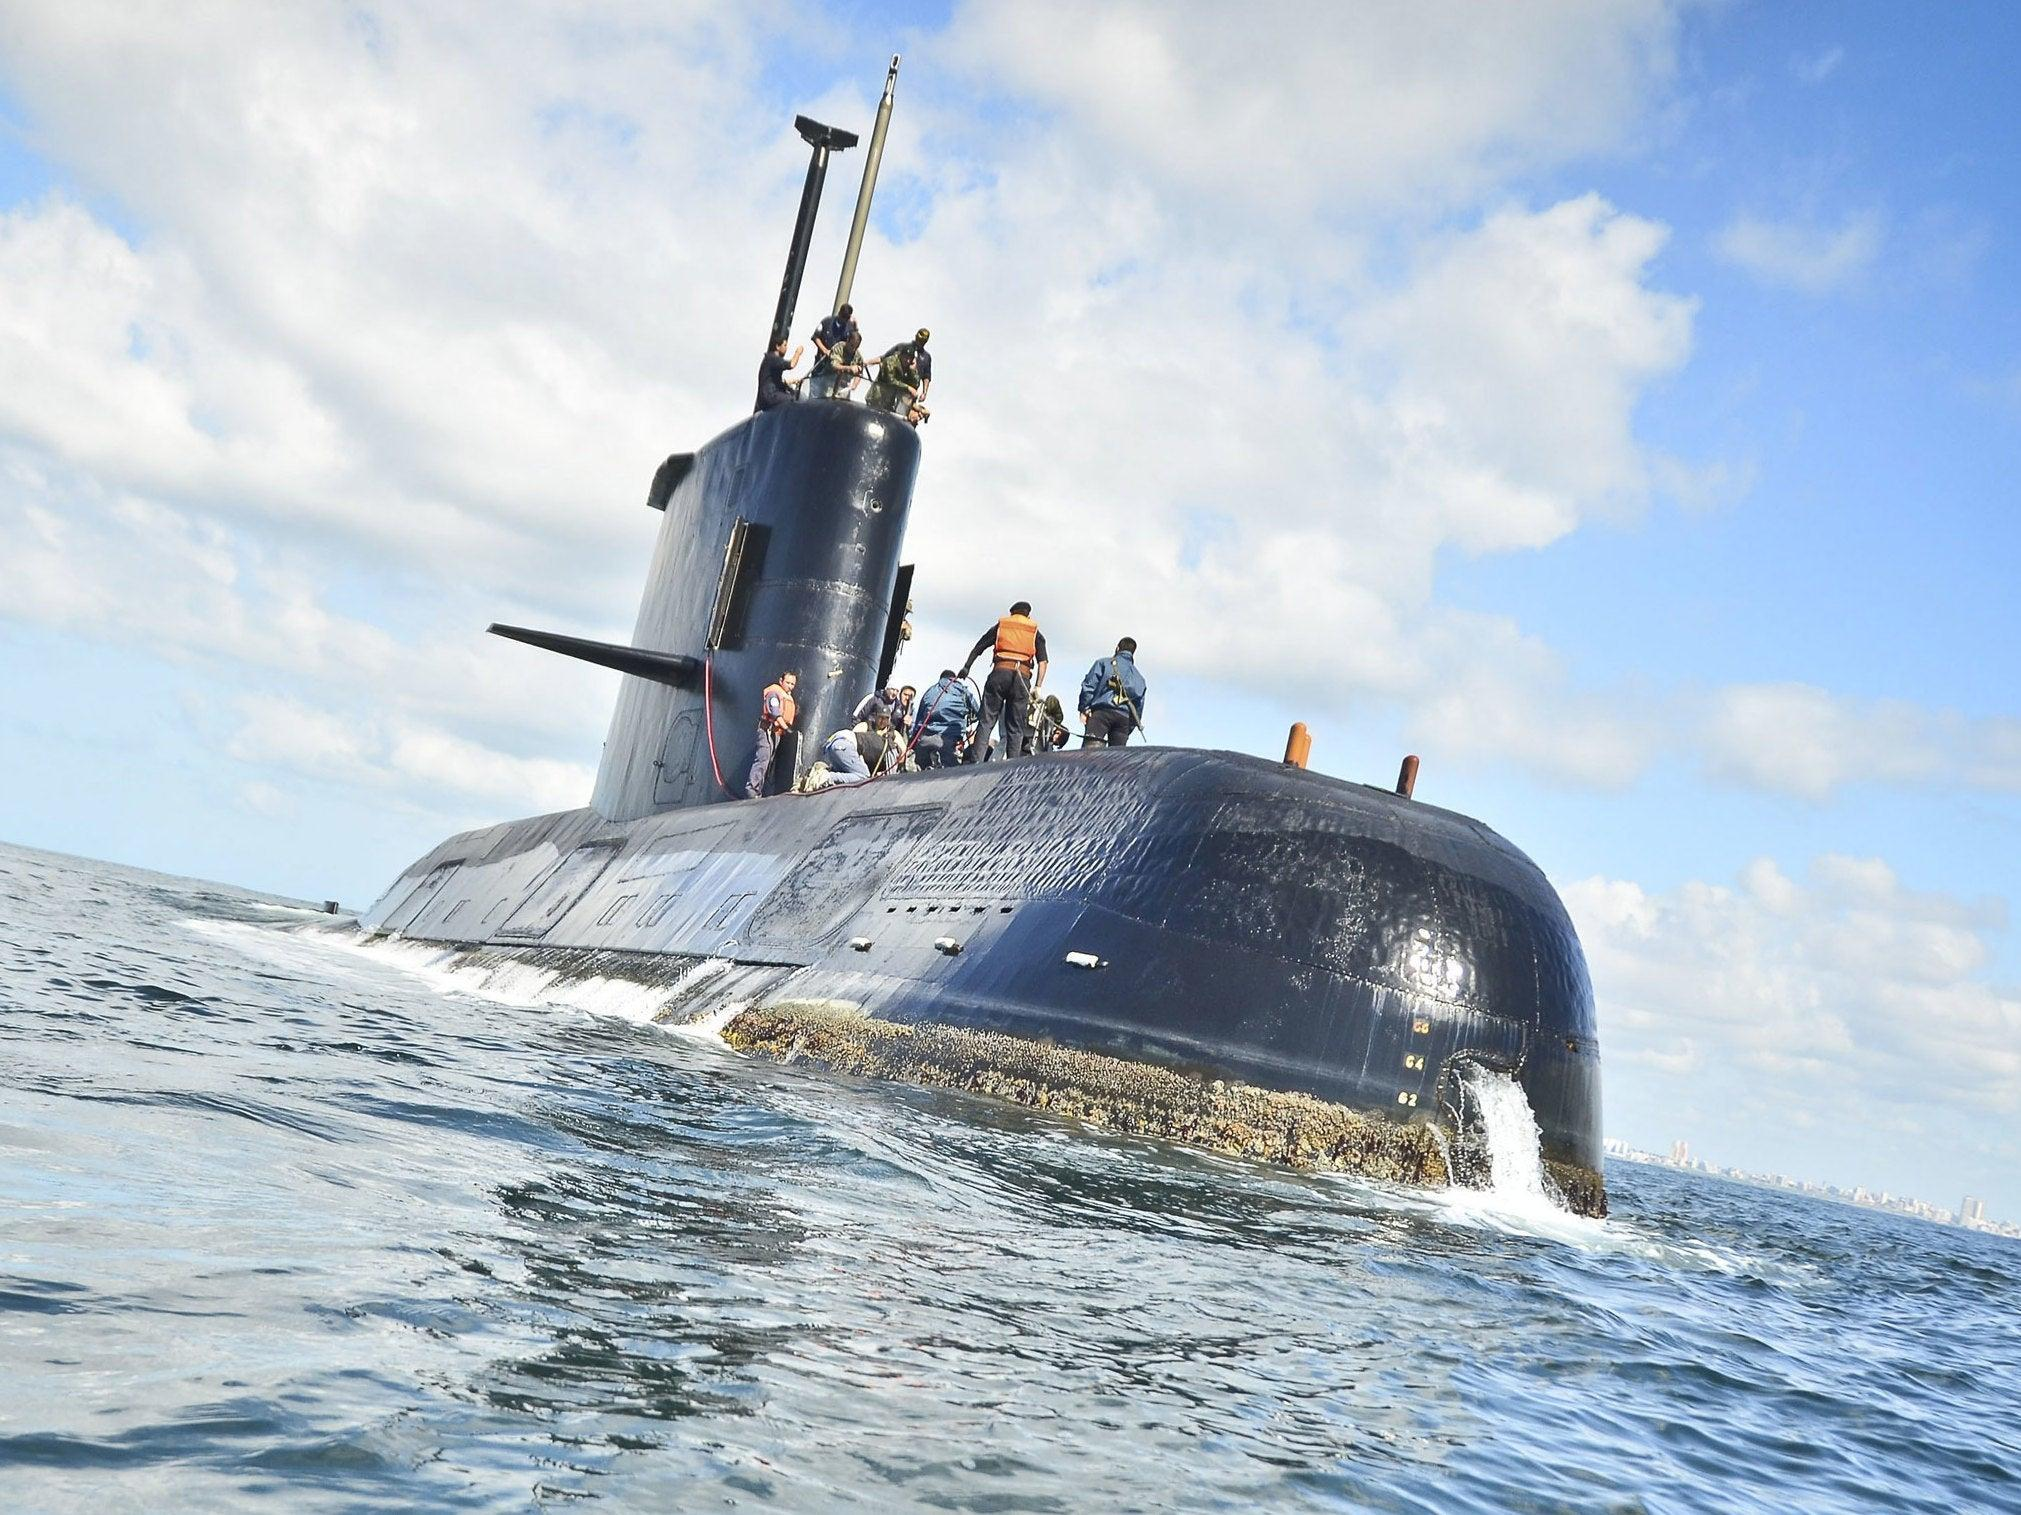Submarine: (204, 43, 1717, 1397)
